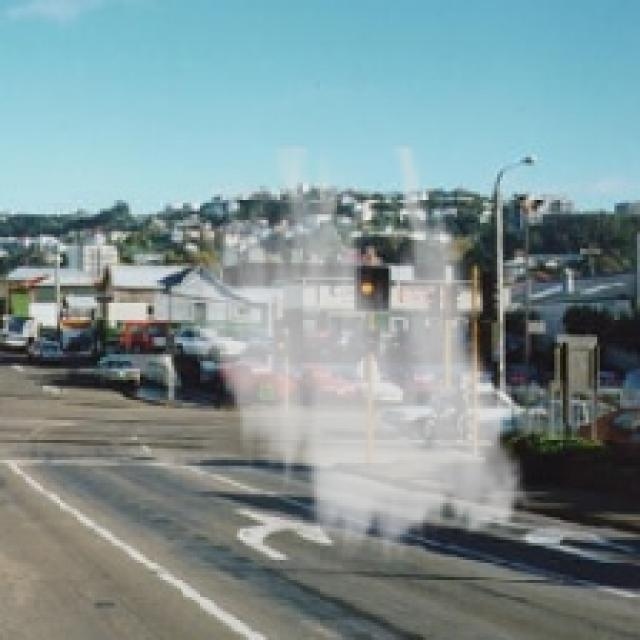smoke: (180, 143, 540, 566)
